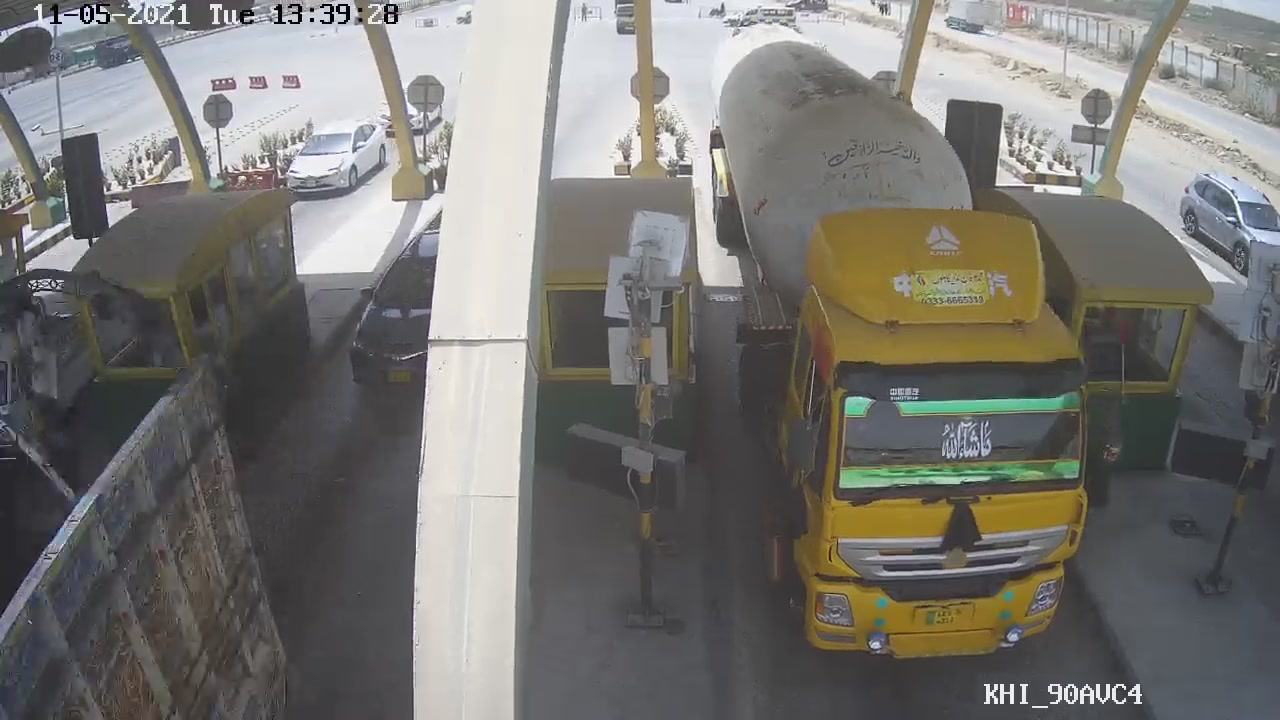F6: (707, 71, 1115, 662)
